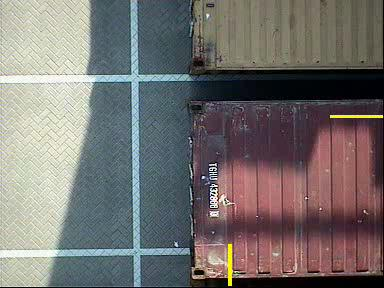groundmarker_2: (72, 73, 184, 116), (89, 248, 186, 288)
